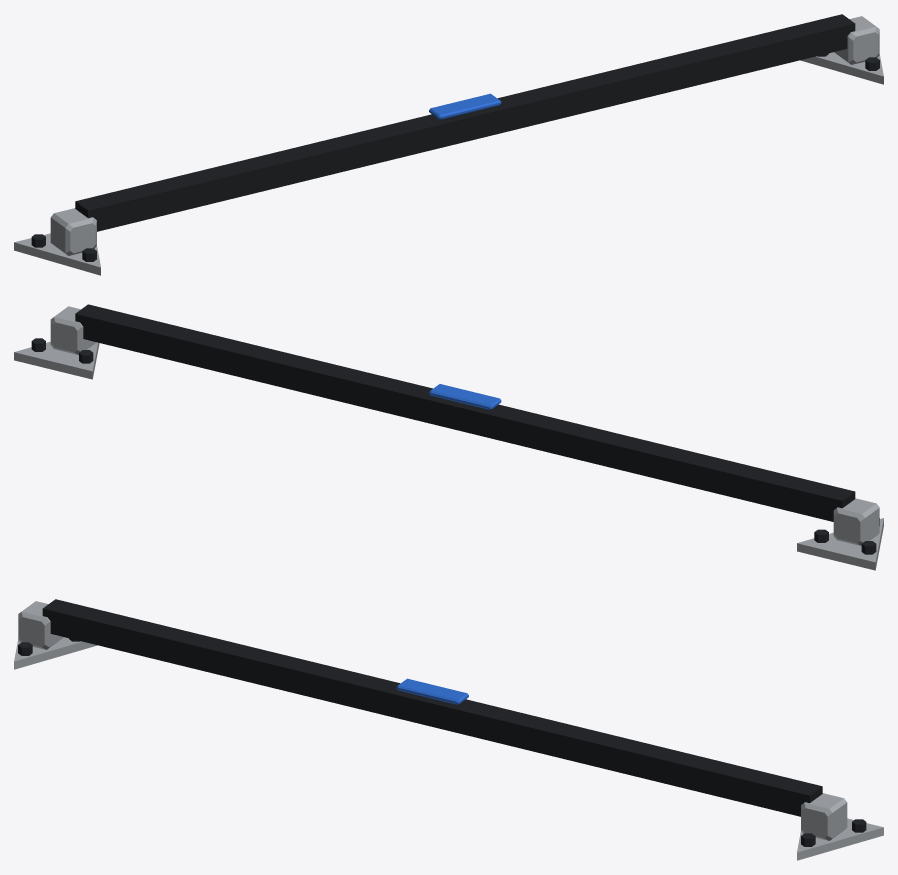
File: strut_brace_carbon.glb
The picture shows the model from 3 angles, top to bottom: view 1: azimuth 30°, elevation 25°; view 2: azimuth 150°, elevation 25°; view 3: azimuth 330°, elevation 25°; orthographic projection.
Parts seen in each view (by area): view 1: model; view 2: model; view 3: model.
Boxes of the visible parts, x1=… form: model: x1=14, y1=14, x2=883, y2=275; model: x1=14, y1=304, x2=883, y2=570; model: x1=14, y1=599, x2=883, y2=860.
Size of the model in its own units: 1.09 by 0.068 by 0.1049.
Materials: 3 (1 with a texture image).
